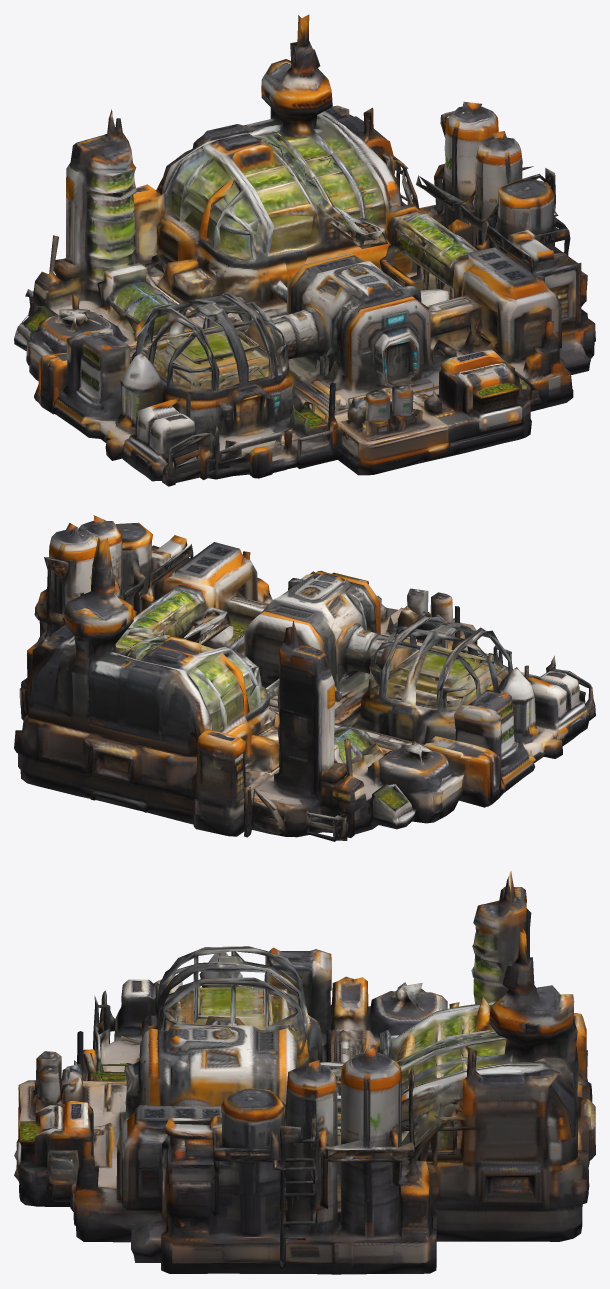
Rendered from building-agricultural-dome-l3.glb.
The picture shows the model from 3 angles, top to bottom: view 1: azimuth 30°, elevation 25°; view 2: azimuth 150°, elevation 25°; view 3: azimuth 270°, elevation 25°; orthographic projection. The views are drawn at different scales.
Visible parts, largest first — view 1: tripo_node_00766494-347a-41c5-a7c2-f1848d58690b; view 2: tripo_node_00766494-347a-41c5-a7c2-f1848d58690b; view 3: tripo_node_00766494-347a-41c5-a7c2-f1848d58690b.
Part boxes in pixels (x1,y1,x2,y2): tripo_node_00766494-347a-41c5-a7c2-f1848d58690b: (14, 14, 595, 486); tripo_node_00766494-347a-41c5-a7c2-f1848d58690b: (14, 515, 595, 841); tripo_node_00766494-347a-41c5-a7c2-f1848d58690b: (14, 871, 595, 1274).
Bounding box in the file's own units: 0.9819 × 0.5004 × 0.9375.
Materials: 1 (1 with a texture image).
